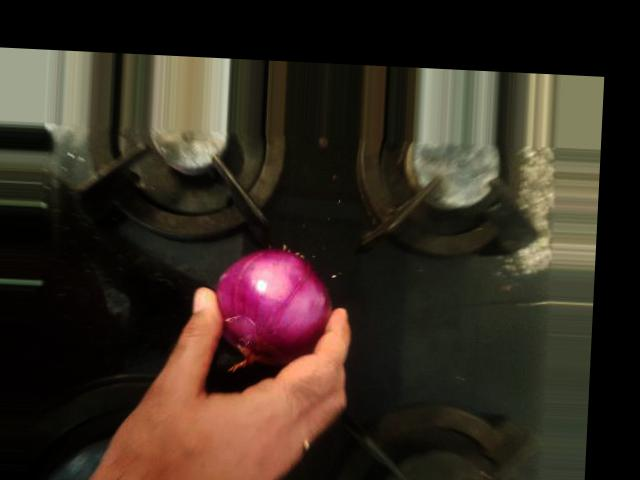onion: (319, 179, 440, 314)
